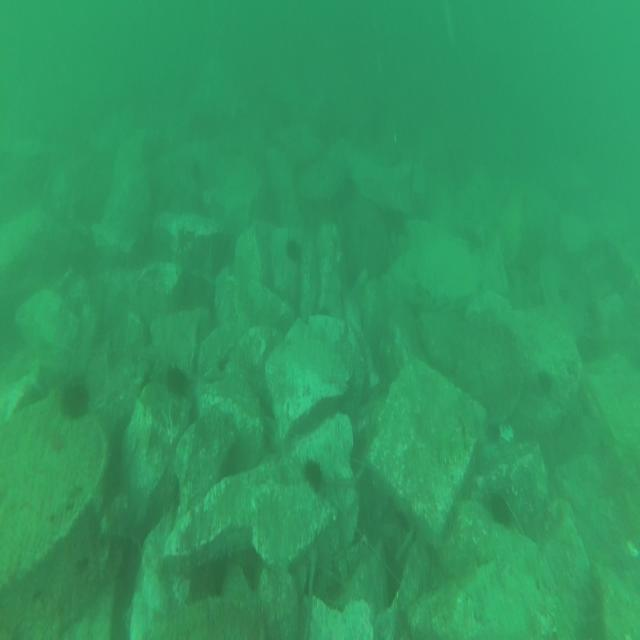echinus: (58, 376, 94, 422), (487, 486, 517, 530), (300, 451, 327, 497), (163, 362, 190, 398), (283, 233, 303, 266), (538, 362, 553, 398)
